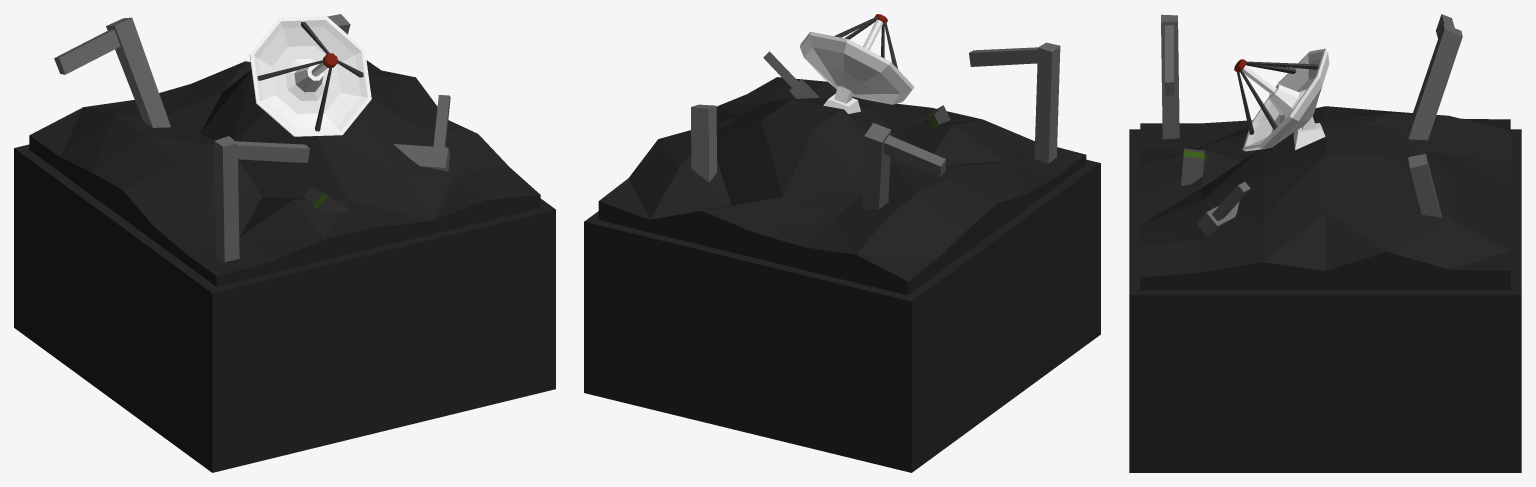
File: Construccion1Destruida.fbx
The picture shows the model from 3 angles, left to right: view 1: azimuth 30°, elevation 25°; view 2: azimuth 150°, elevation 25°; view 3: azimuth 270°, elevation 25°; orthographic projection. The views are drawn at different scales.
Parts seen in each view (by area): view 1: Cube.006; view 2: Cube.006; view 3: Cube.006.
Part boxes in pixels (x1,y1,x2,y2): Cube.006: (14,14,555,472); Cube.006: (584,14,1100,472); Cube.006: (1129,14,1521,472).
Bounding box in the file's own units: 200 × 190 × 200.
2 materials, 2 textured.
